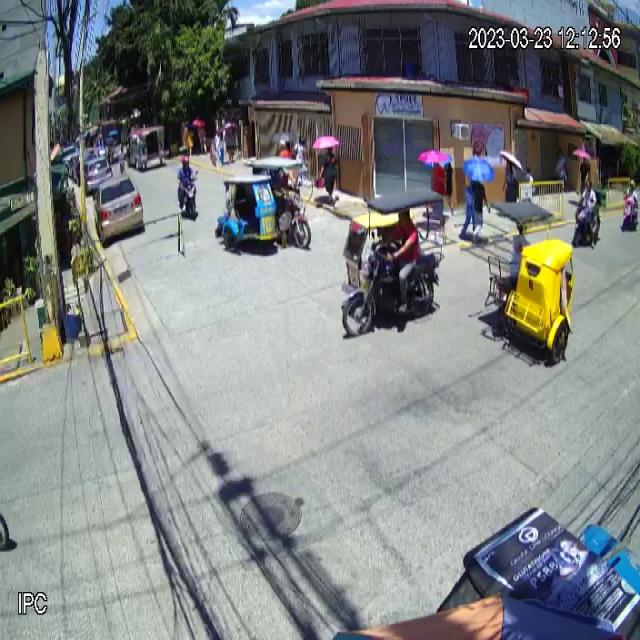Tricycle: (339, 187, 446, 340), (485, 199, 577, 365), (216, 154, 314, 252)
